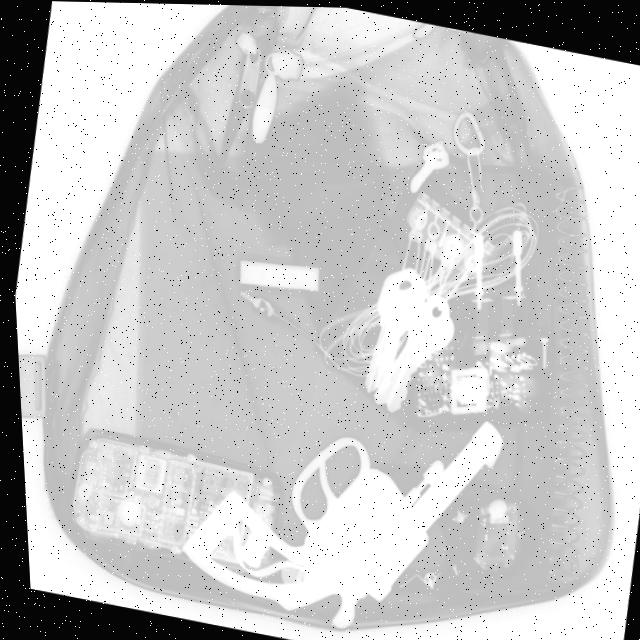grenade: (47, 419, 287, 584)
